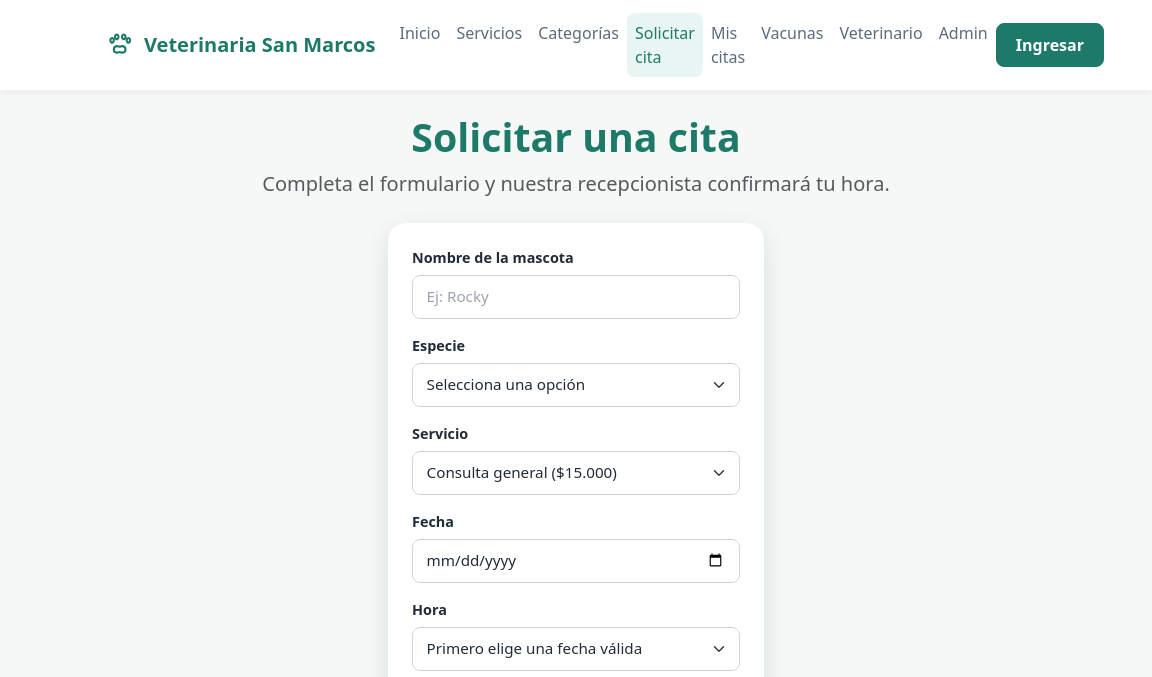
Test: Página SolicitarCita › flujo completo: envía la cita como Pendiente y navega a /cita-confirmada
In the field labelled "Nombre de la mascota": (576, 297) top-left (412, 275), bottom-right (740, 319), type "Rocky"
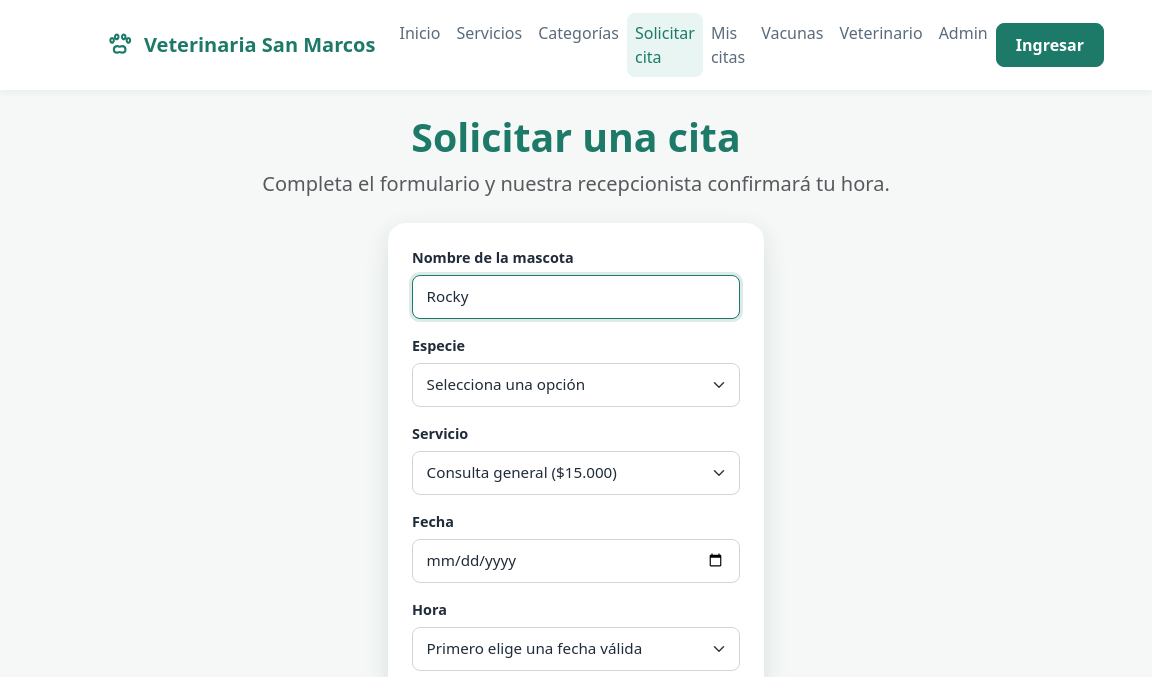
Select "Perro" in the dropdown labelled "Especie": (576, 385) top-left (412, 363), bottom-right (740, 407)
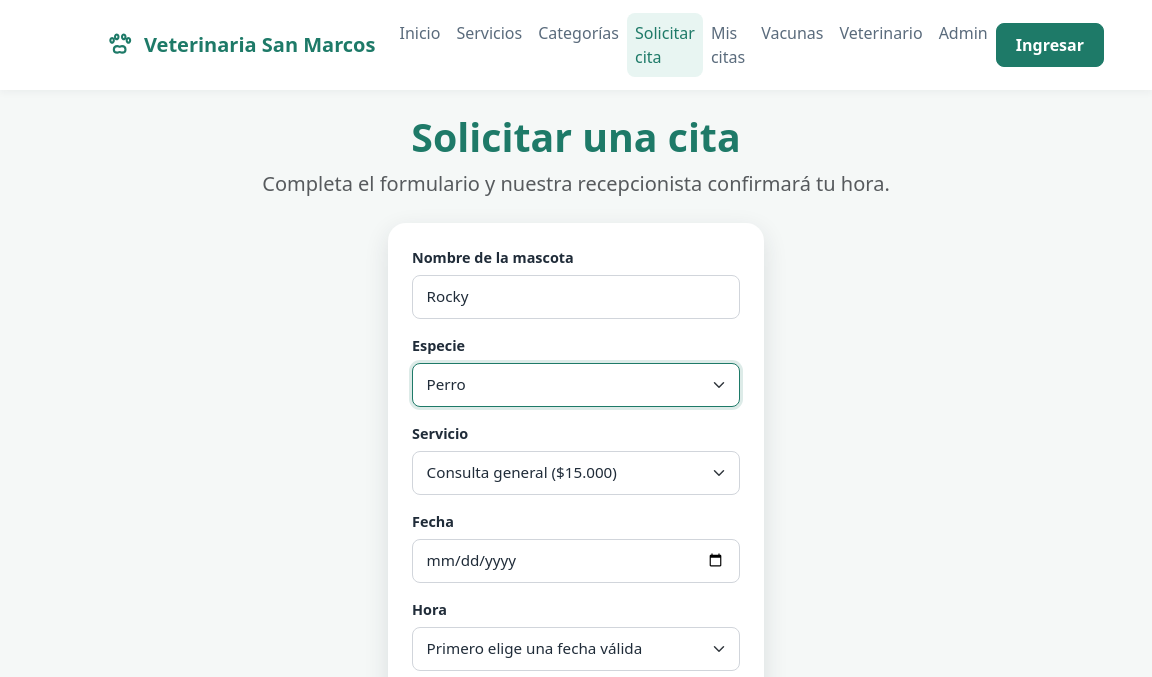
In the date field labelled "Fecha": (576, 561) top-left (412, 539), bottom-right (740, 583), type "2030-03-05"
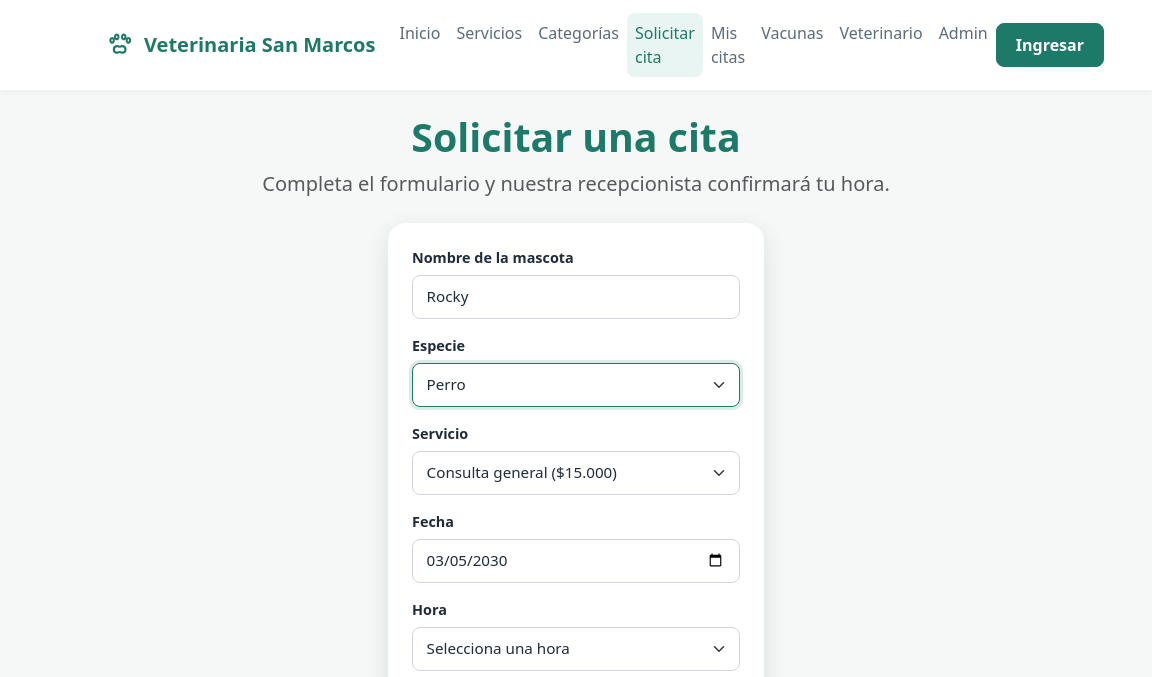
Select "10:00" in the dropdown labelled "Hora": (576, 649) top-left (412, 627), bottom-right (740, 671)
(page scrolled)
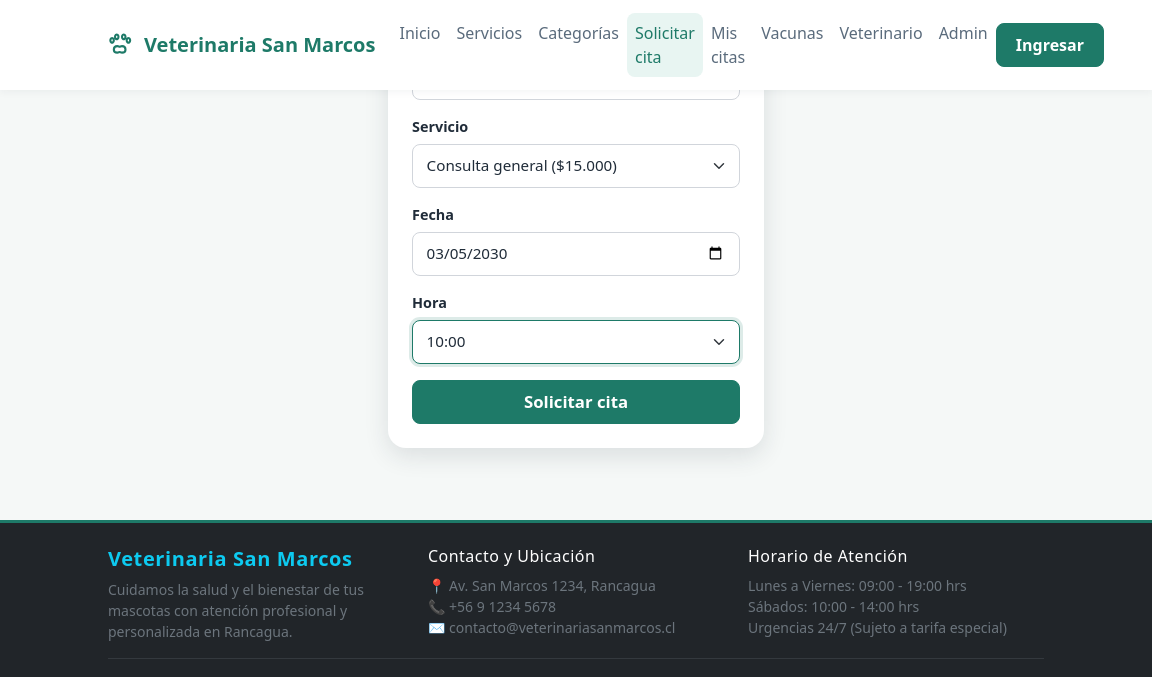
Click the button "Solicitar cita": (576, 402) top-left (412, 380), bottom-right (740, 424)
(page scrolled)
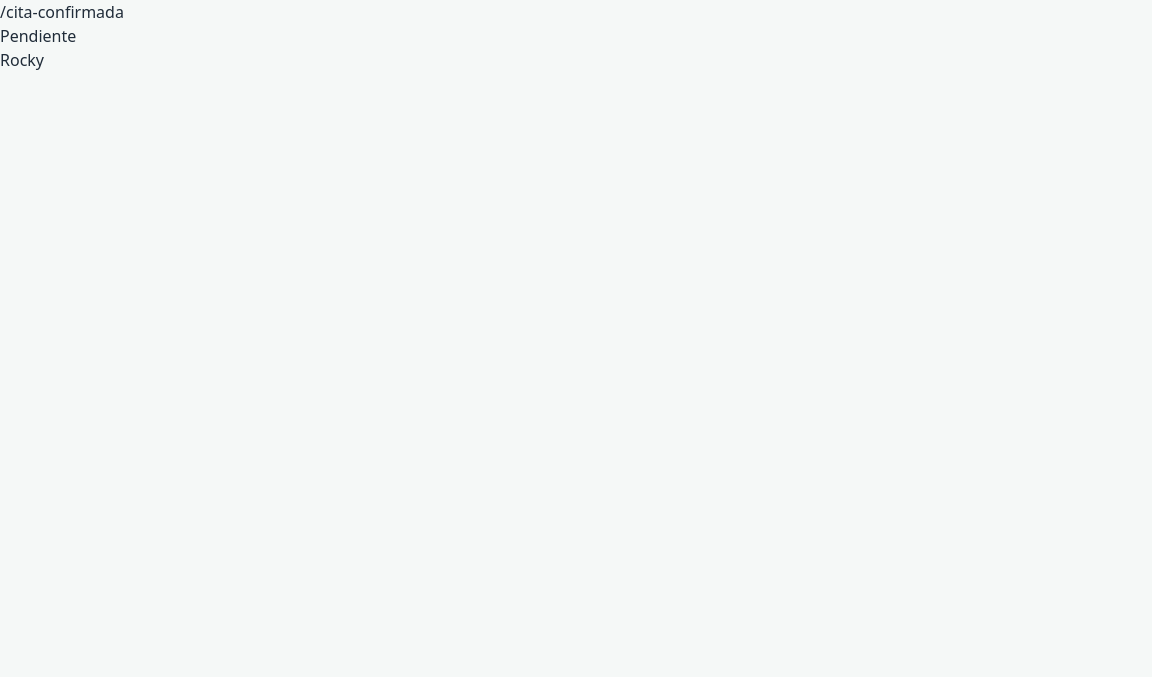
Expected: the text with test id "ruta" reads "/cita-confirmada", top-left (0, 1), bottom-right (124, 23)
Expected: the text with test id "estado" reads "Pendiente", top-left (0, 25), bottom-right (76, 47)
Expected: the text with test id "mascota" reads "Rocky", top-left (0, 49), bottom-right (44, 71)
